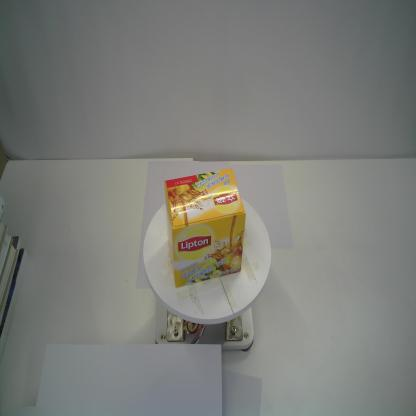Instant Drink: (162, 166, 248, 290)
